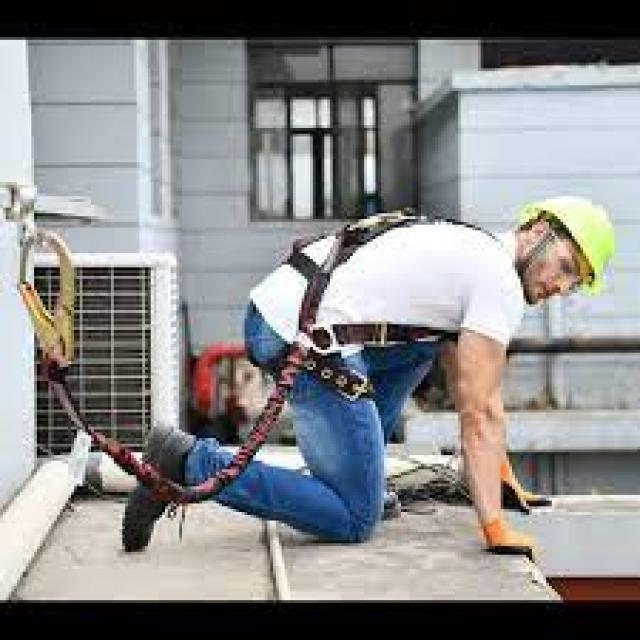Arnes_seguridad: (280, 200, 482, 303)
